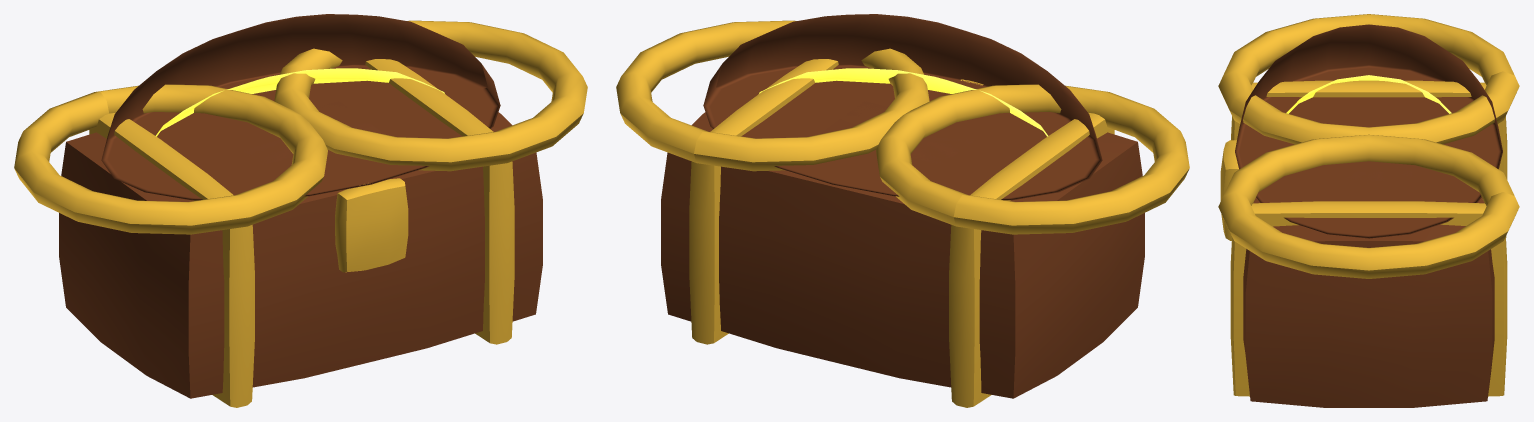
File: treasure_chest.glb
3 renders of one model, left to right at view 1: azimuth 30°, elevation 25°; view 2: azimuth 150°, elevation 25°; view 3: azimuth 270°, elevation 25°, orthographic. The views are drawn at different scales.
Parts seen in each view (by area): view 1: ChestBase, ChestLidPivot; view 2: ChestBase, ChestLidPivot; view 3: ChestLidPivot, ChestBase.
Part boxes in pixels (x1,y1,x2,y2): ChestBase: [59, 59, 542, 407]; ChestLidPivot: [14, 14, 587, 234]; ChestBase: [661, 59, 1144, 407]; ChestLidPivot: [616, 14, 1189, 234]; ChestLidPivot: [1218, 14, 1519, 278]; ChestBase: [1220, 75, 1507, 407].
Bounding box in the file's own units: 2.06 × 1.07 × 1.06.
